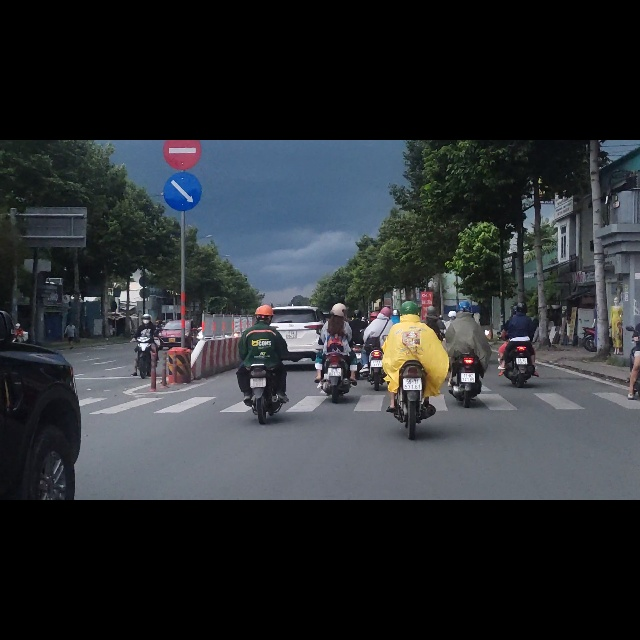bien_hieu_lenh: (163, 55, 202, 127), (163, 1, 202, 55)
